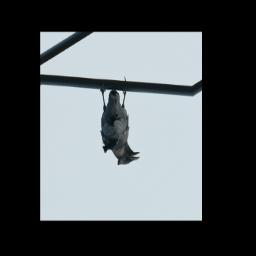Crow: (95, 73, 141, 173)
